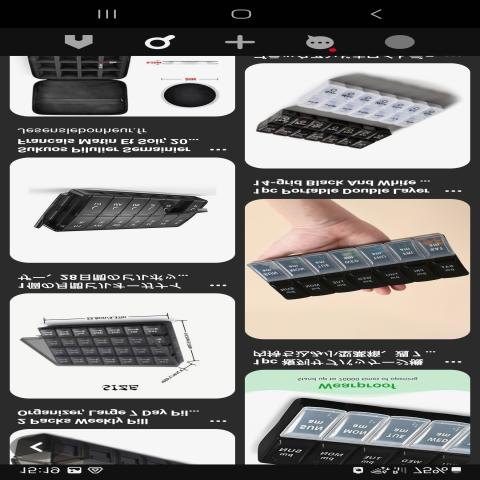PillBox: (253, 223, 478, 306), (13, 312, 206, 384), (36, 181, 217, 242), (253, 106, 392, 154)
